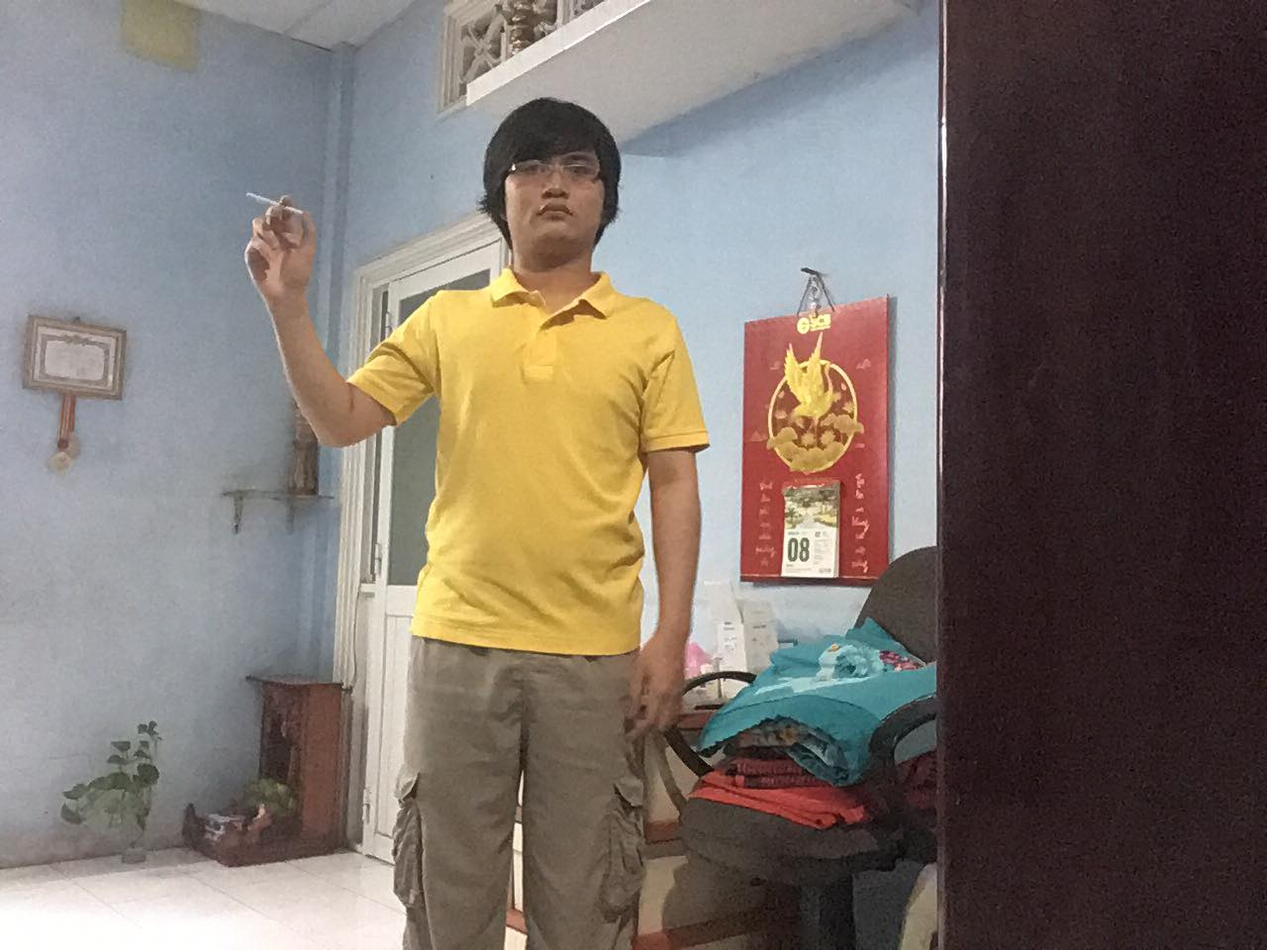cigarette: (241, 188, 281, 210)
person: (237, 127, 718, 945)
